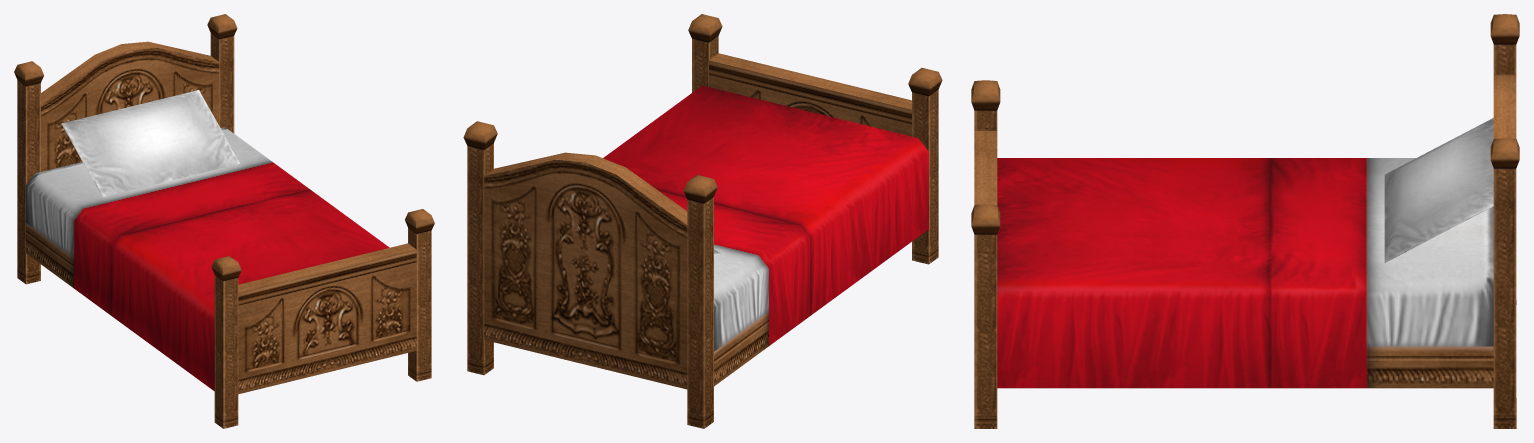
Rendered from bed.fbx.
The picture shows the model from 3 angles, left to right: view 1: azimuth 30°, elevation 25°; view 2: azimuth 150°, elevation 25°; view 3: azimuth 270°, elevation 25°; orthographic projection. The views are drawn at different scales.
Parts seen in each view (by area): view 1: bed; view 2: bed; view 3: bed.
Part boxes in pixels (left/top/right/bottom): bed: left=14, top=14, right=434, bottom=428; bed: left=463, top=14, right=942, bottom=428; bed: left=971, top=14, right=1519, bottom=428.
Bounding box in the file's own units: 71.42 × 69.93 × 121.
